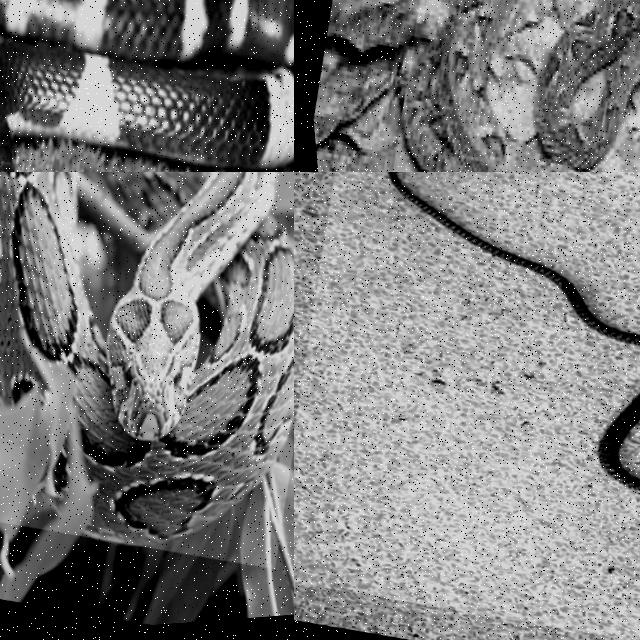Bungarus candidus: (0, 0, 293, 171)
Calloselasma rhodostoma: (402, 0, 639, 171)
Chrysopelea ornata: (387, 172, 639, 344)
Daboia siamensis: (0, 172, 293, 544)
